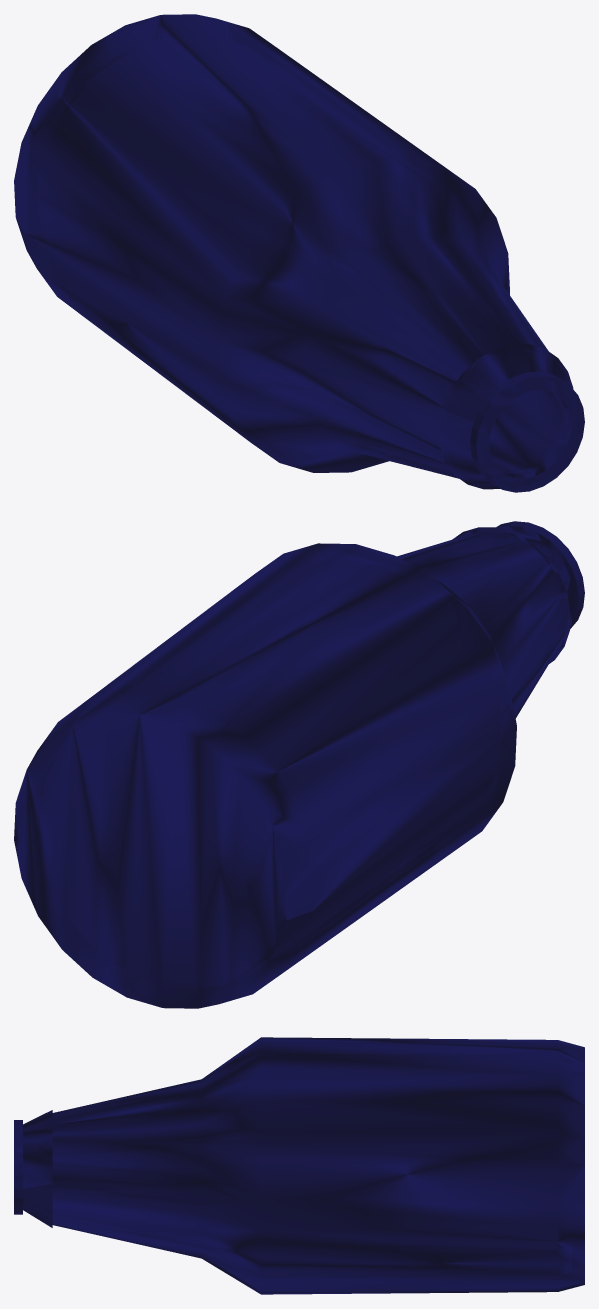
The model's file is model_align.obj.
3 renders of one model, top to bottom at view 1: azimuth 30°, elevation 25°; view 2: azimuth 150°, elevation 25°; view 3: azimuth 270°, elevation 25°, orthographic. The views are drawn at different scales.
Size of the model in its own units: 0.0573 by 0.0573 by 0.1277.
